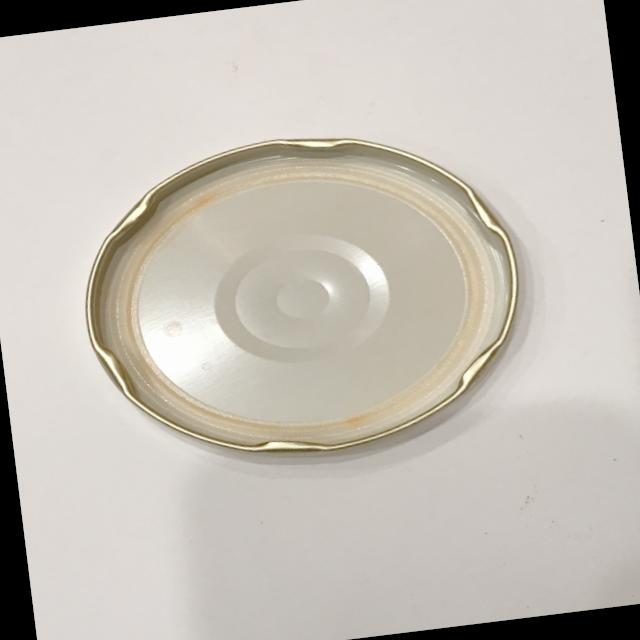Metal: (48, 94, 556, 514)
